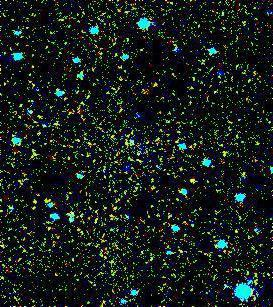star: (179, 166, 209, 196)
